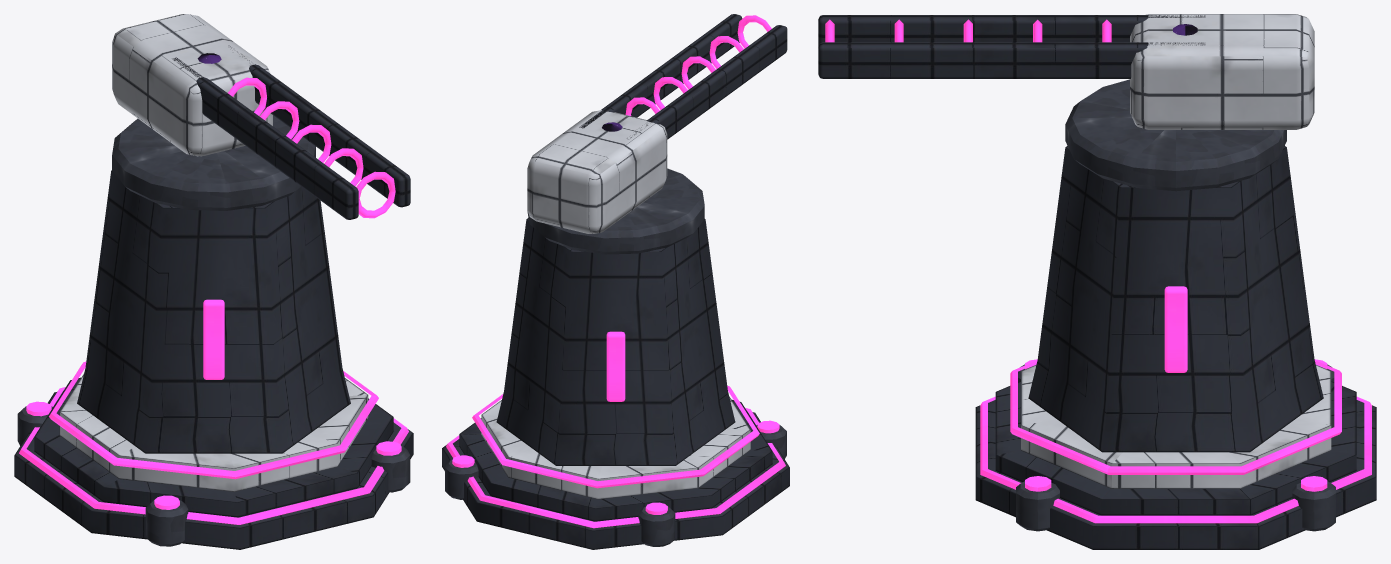
The model's file is sf_voidlance.glb.
3 renders of one model, left to right at view 1: azimuth 30°, elevation 25°; view 2: azimuth 150°, elevation 25°; view 3: azimuth 270°, elevation 25°, orthographic. The views are drawn at different scales.
Visible parts, largest first — view 1: Base, Turret; view 2: Base, Turret; view 3: Base, Turret.
Boxes of the visible parts, x1,y1,x2,y2 form: Base: (14, 170, 413, 549); Turret: (112, 14, 410, 219); Base: (442, 218, 789, 549); Turret: (527, 14, 787, 254); Base: (975, 146, 1376, 549); Turret: (818, 14, 1314, 191).
Size of the model in its own units: 0.8684 by 1.06 by 1.21.
Materials: 5 (5 with a texture image).
